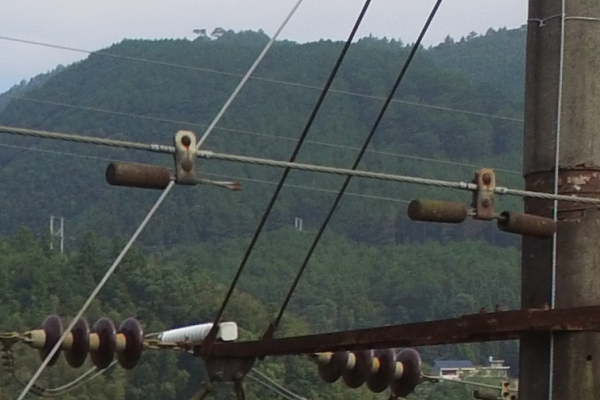damper: (402, 165, 557, 239)
damper_defect: (102, 126, 248, 196)
